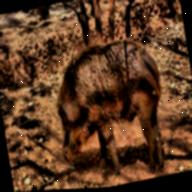boar: (37, 19, 183, 190)
